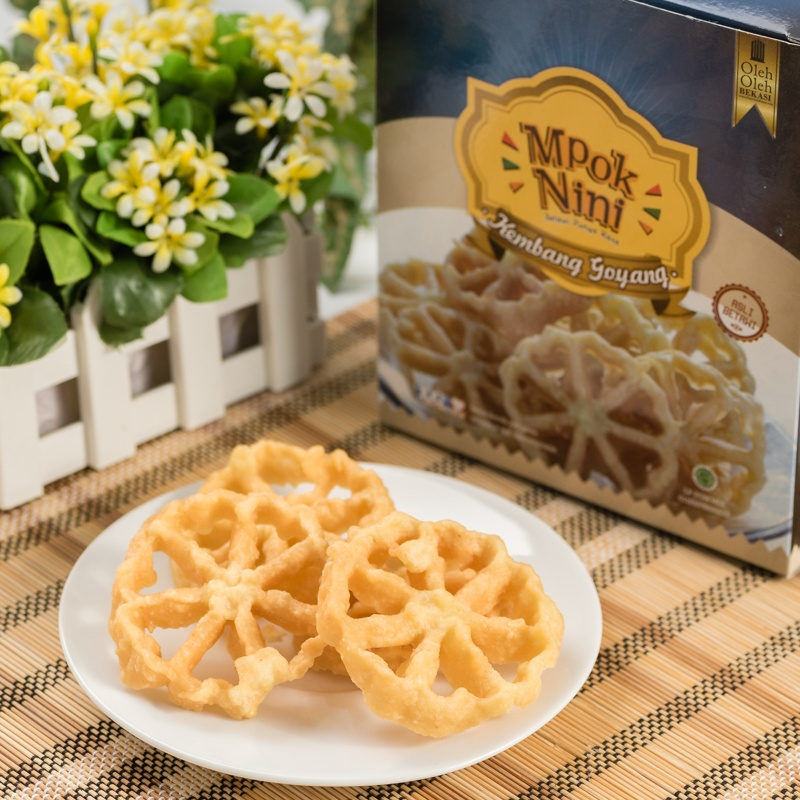kembang_goyang: (323, 519, 567, 738)
